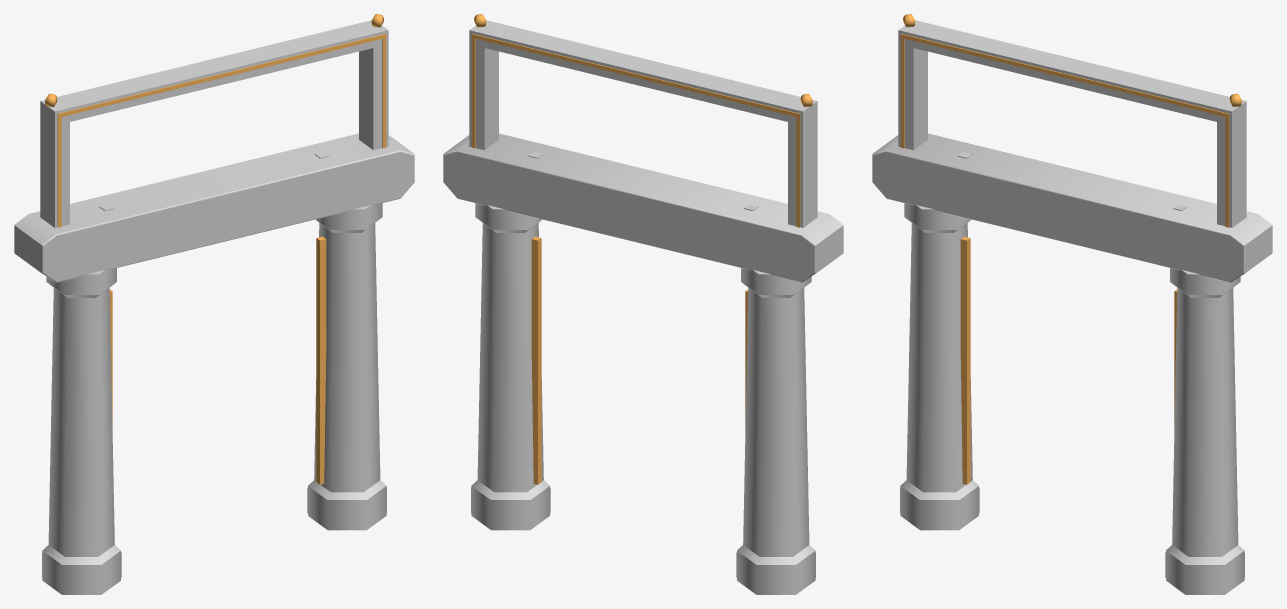
File: PortalArch.glb
3 views of the same model, side by side, from view 1: azimuth 30°, elevation 25°; view 2: azimuth 150°, elevation 25°; view 3: azimuth 330°, elevation 25° (orthographic).
Visible parts, largest first — view 1: Body, Glow; view 2: Body, Glow; view 3: Body, Glow.
Boxes of the visible parts, <box> form: Body: <box>14,20,414,594</box>; Glow: <box>45,14,386,484</box>; Body: <box>443,20,843,594</box>; Glow: <box>471,14,812,484</box>; Body: <box>872,20,1272,594</box>; Glow: <box>900,14,1241,484</box>.
Bounding box in the file's own units: 20.8 × 26.3 × 3.84.
